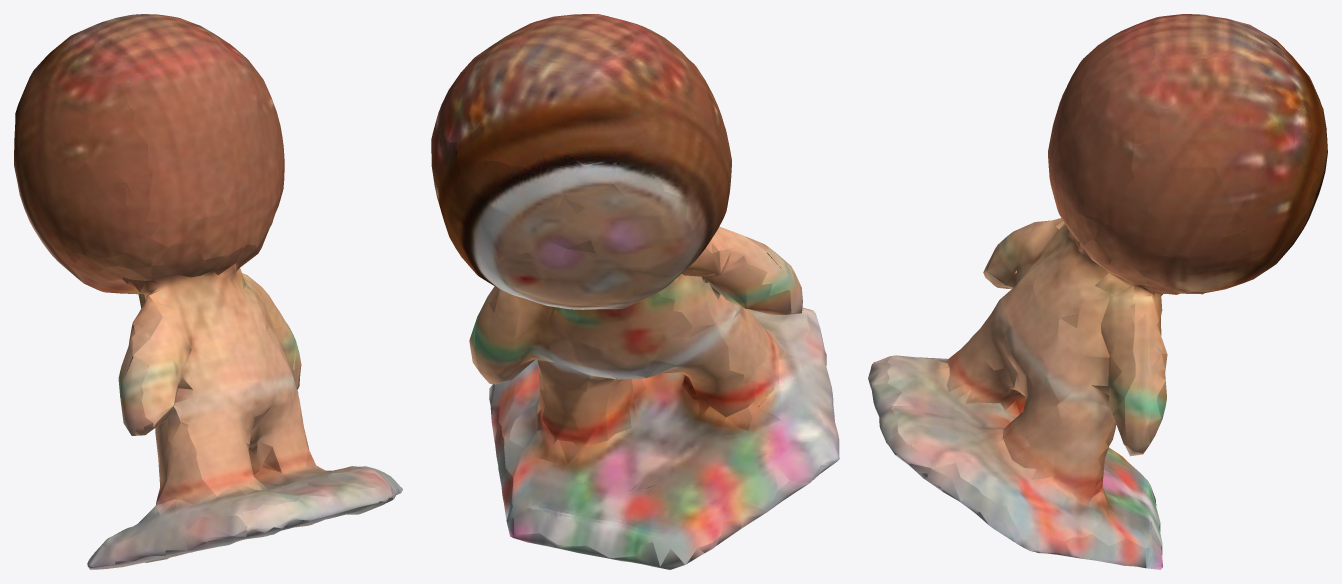
3 views of the same model, side by side, from view 1: azimuth 30°, elevation 25°; view 2: azimuth 150°, elevation 25°; view 3: azimuth 270°, elevation 25° (orthographic). The views are drawn at different scales.
Parts seen in each view (by area): view 1: world; view 2: world; view 3: world.
Part boxes in pixels (box(x1,y1,x2,y2)): world: box(14, 14, 402, 569); world: box(431, 14, 839, 569); world: box(868, 14, 1327, 569).
Bounding box in the file's own units: 0.3182 × 0.4821 × 0.3975.
1 material, 1 textured.
